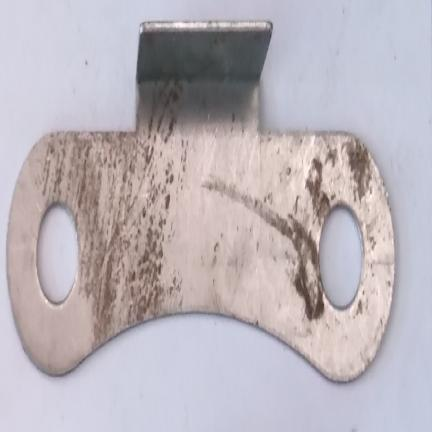karat: (40, 72, 188, 347)
